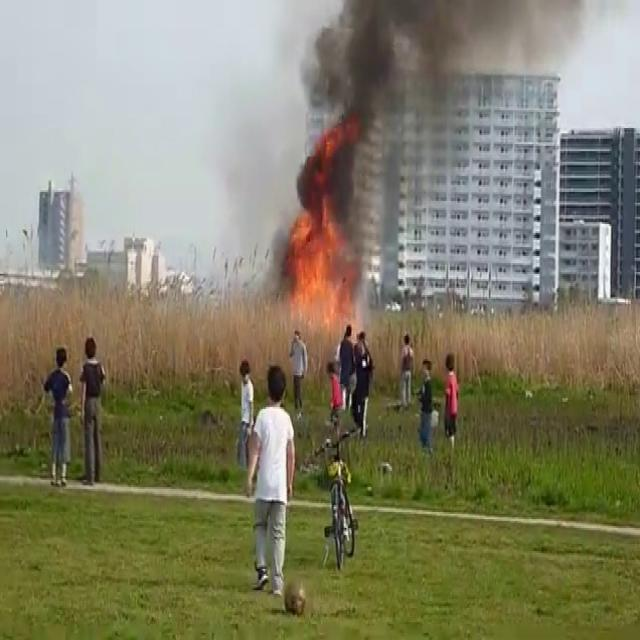Fire: (272, 199, 359, 333)
Smoke: (280, 0, 474, 258)
